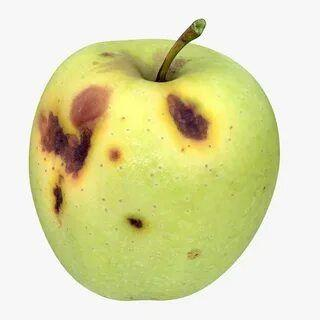Apple: (29, 39, 280, 300)
